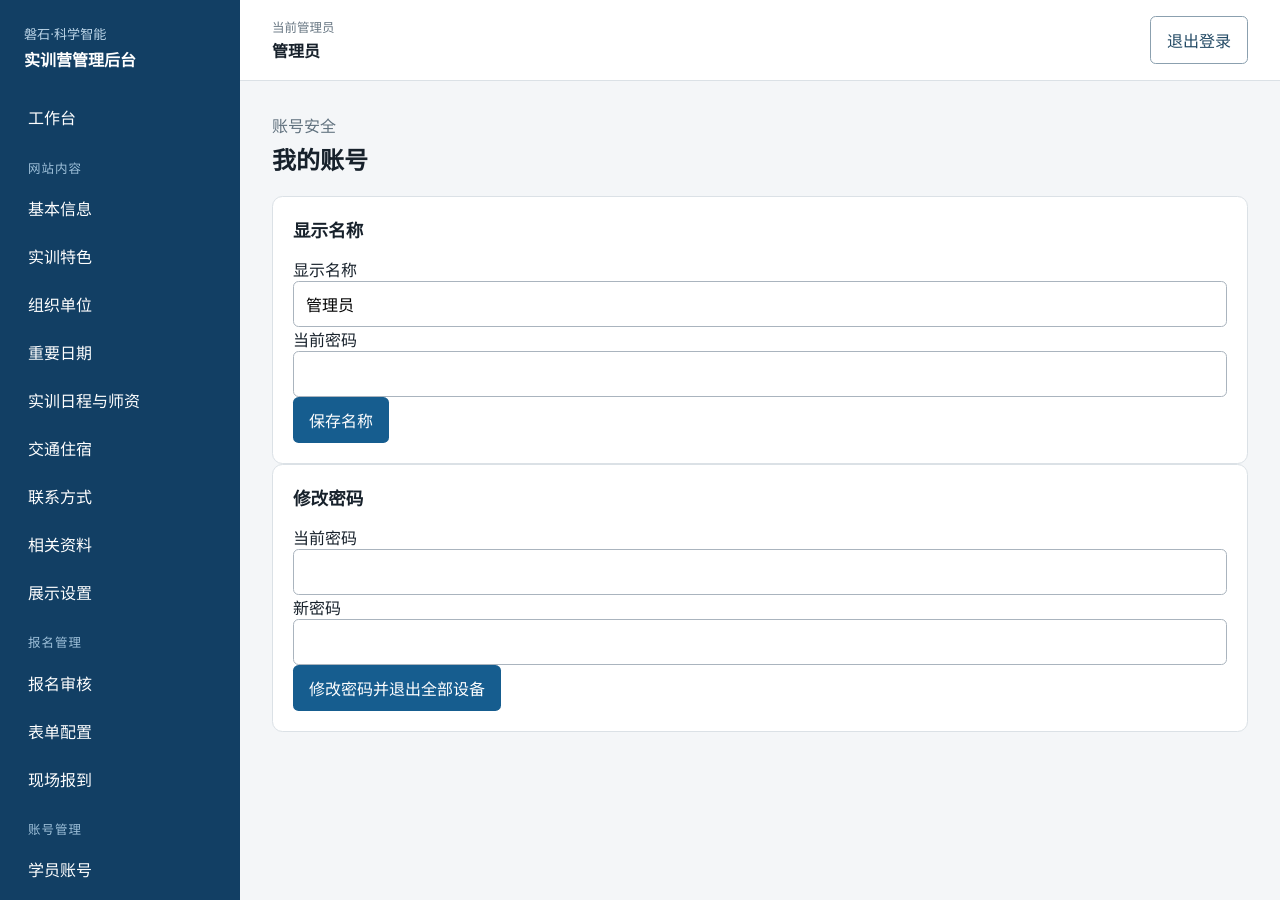
Scenario: administrator route guard › shows the stable duplicate-name conflict during self rename
This screenshot has width=1280, height=900.
expect the heading "我的账号" is shown: met, box [272,141,368,176]
Replace the text in the field labelled "显示名称" with "duplicate admin" at coordinates (760, 304), box [293,281,1227,327]
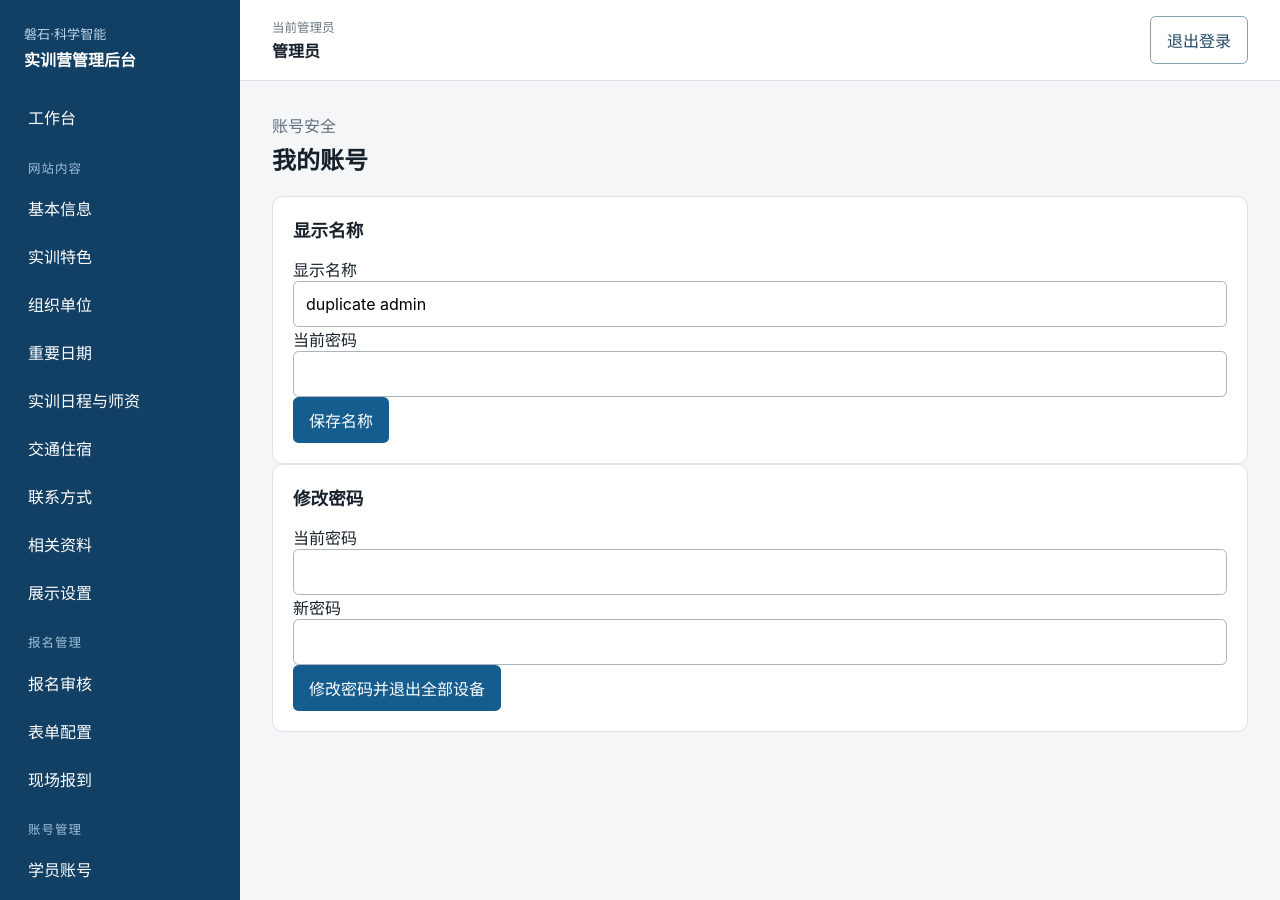
Type "CurrentAdmin!2026" into the 1st password field labelled "当前密码" at coordinates (760, 374), box [293,351,1227,397]
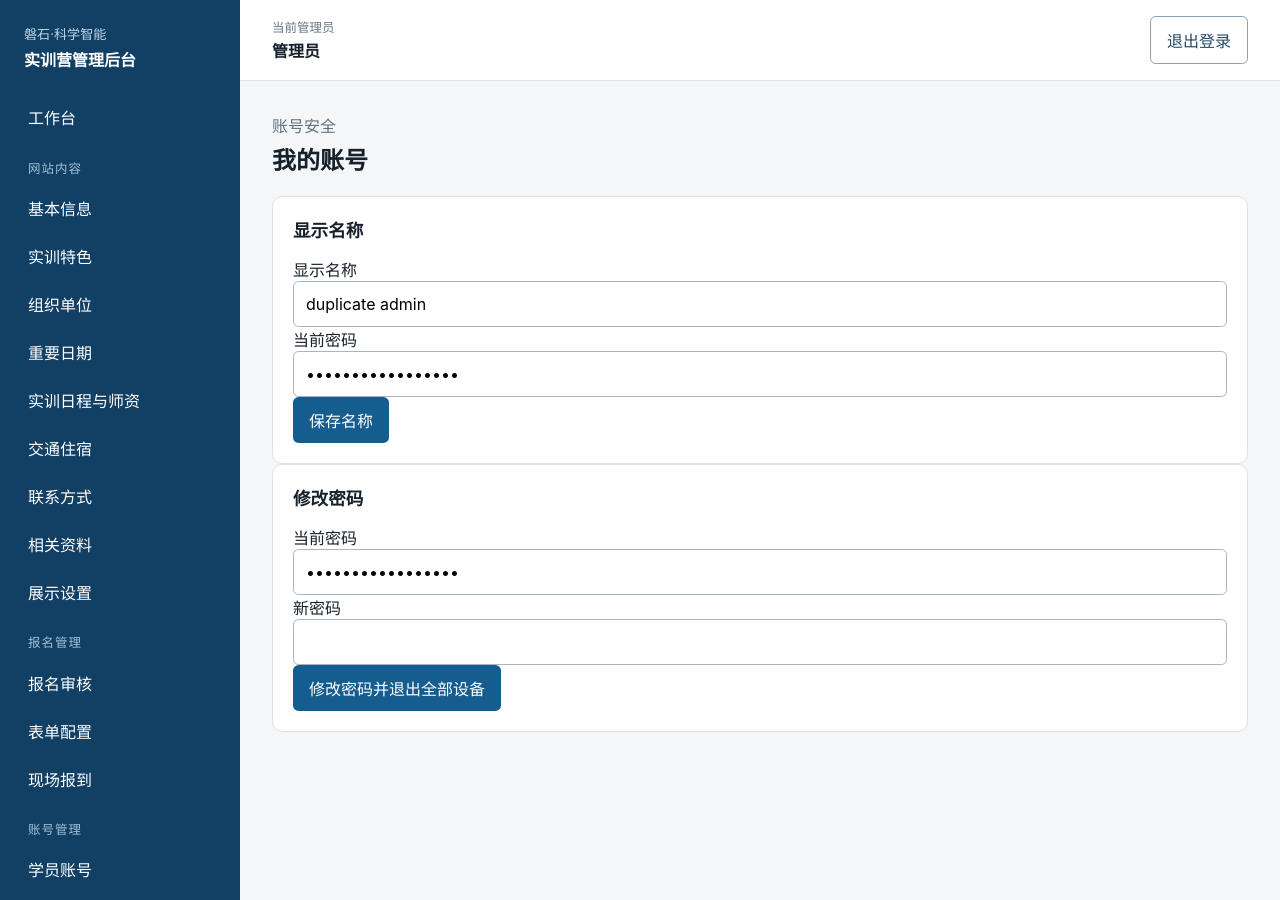
Click the button "保存名称" at coordinates (341, 420), box [293,397,389,443]
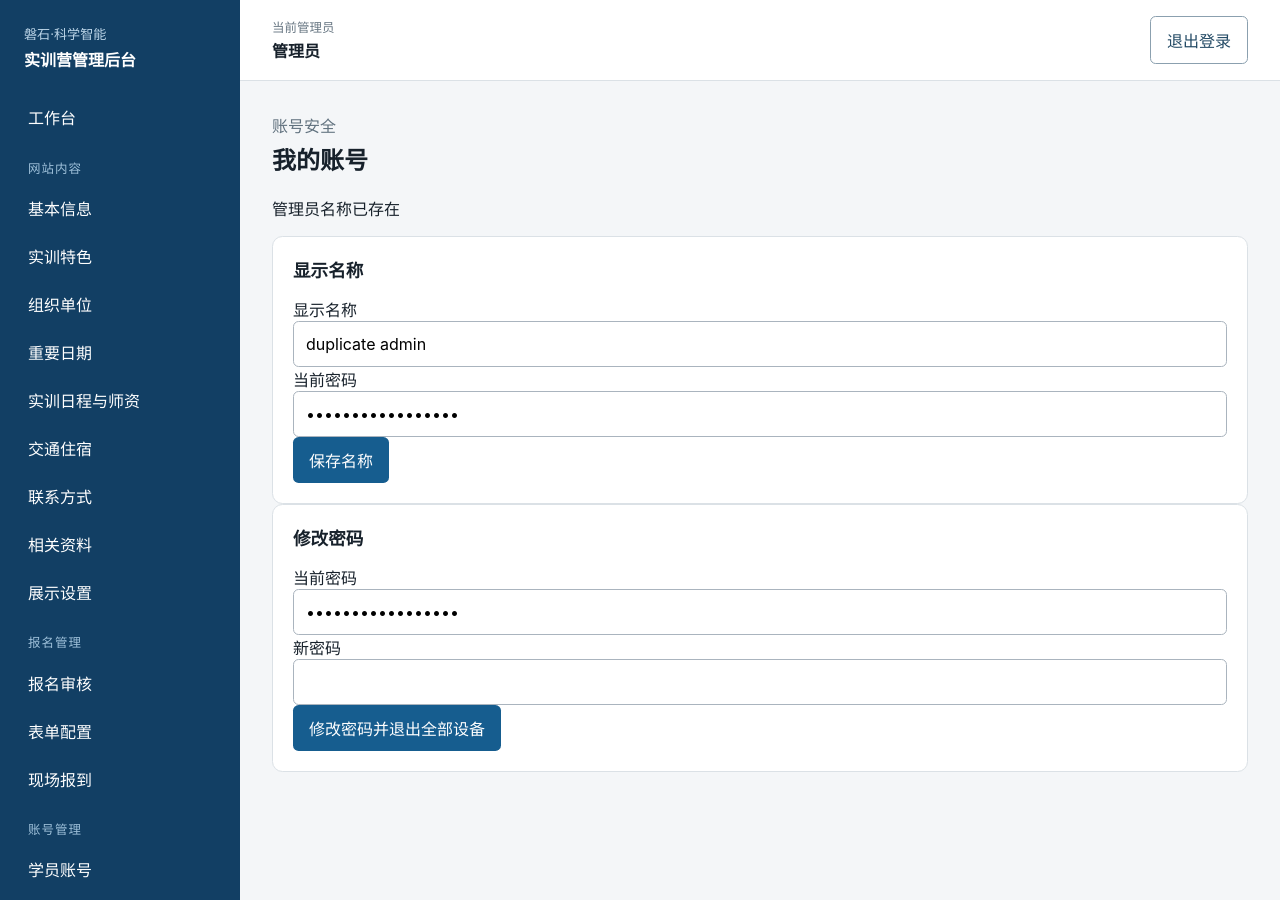
expect the message reads "管理员名称已存在": met, box [272,199,400,219]
